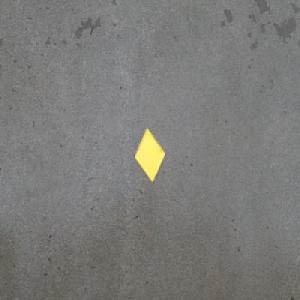PlasticPart: (134, 126, 166, 183)
